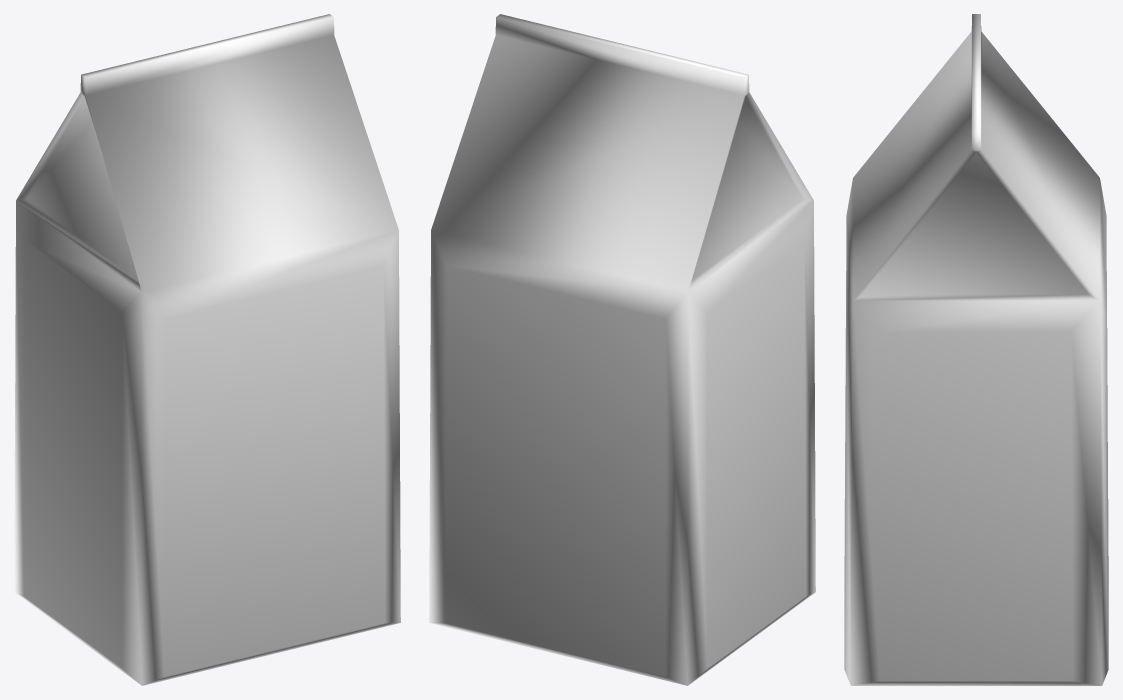
The model's file is milk1.glb.
The picture shows the model from 3 angles, left to right: view 1: azimuth 30°, elevation 25°; view 2: azimuth 150°, elevation 25°; view 3: azimuth 270°, elevation 25°; orthographic projection.
Visible parts, largest first — view 1: pCube1; view 2: pCube1; view 3: pCube1.
Part boxes in pixels (x1=…): pCube1: x1=14, y1=14, x2=400, y2=685; pCube1: x1=429, y1=14, x2=815, y2=685; pCube1: x1=844, y1=14, x2=1108, y2=685.
Size of the model in its own units: 0.1299 by 0.2596 by 0.1129.
Materials: 1 (1 with a texture image).
